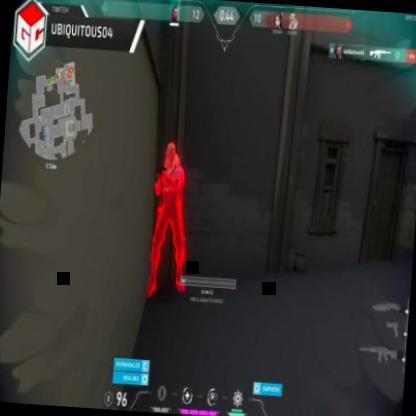enemy: (146, 140, 196, 300)
enemy_head: (164, 142, 177, 170)
